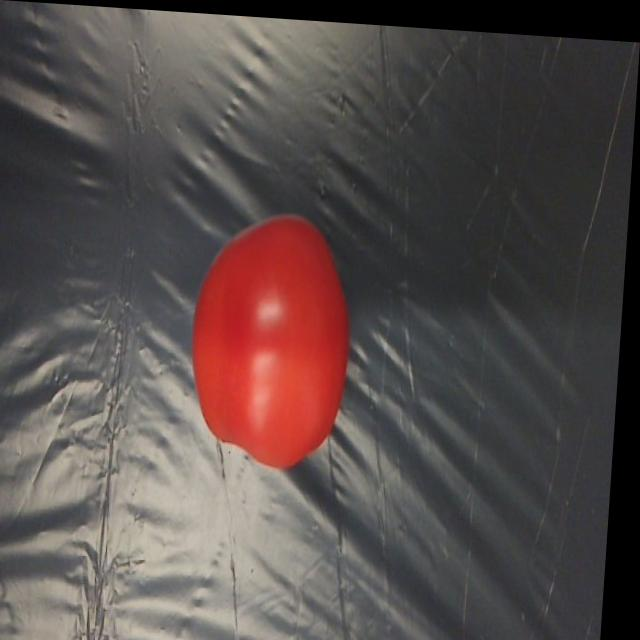kirmizi: (170, 187, 365, 481)
